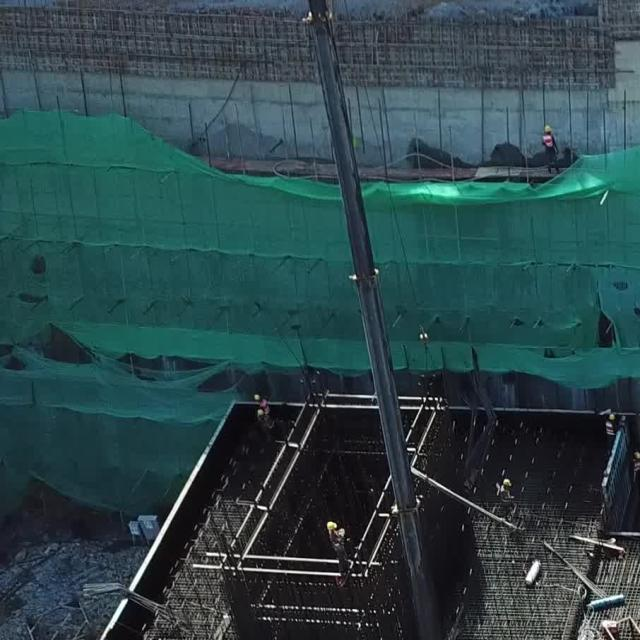crane: (302, 0, 443, 639)
